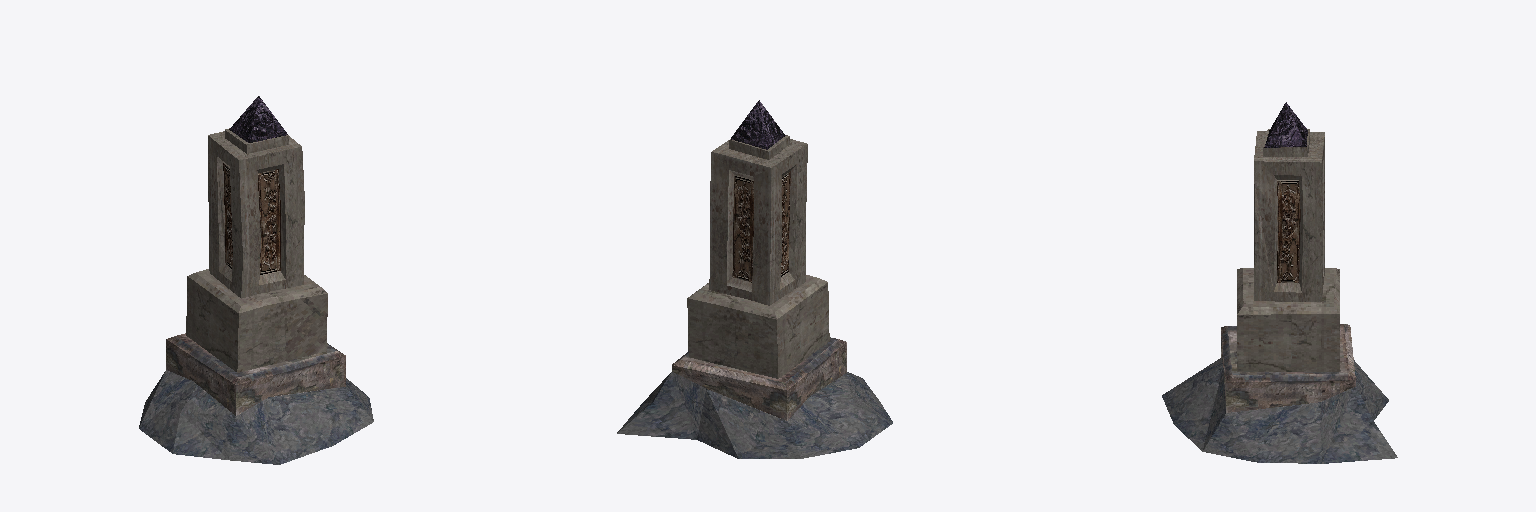
3 renders of one model, left to right at view 1: azimuth 30°, elevation 25°; view 2: azimuth 150°, elevation 25°; view 3: azimuth 270°, elevation 25°, orthographic.
Visible parts, largest first — view 1: Node 0, Node 4, Node 5, Node 1, Node 2, Node 3; view 2: Node 0, Node 4, Node 5, Node 1, Node 2, Node 3; view 3: Node 0, Node 4, Node 2, Node 1, Node 5, Node 3.
Boxes of the visible parts, <box> form: Node 0: <box>139,370,373,464</box>; Node 4: <box>186,269,327,372</box>; Node 5: <box>208,131,302,264</box>; Node 1: <box>166,333,345,415</box>; Node 2: <box>209,167,304,298</box>; Node 3: <box>225,96,288,153</box>; Node 0: <box>617,372,892,458</box>; Node 4: <box>687,275,829,378</box>; Node 5: <box>710,139,807,296</box>; Node 1: <box>672,337,846,420</box>; Node 2: <box>709,207,805,305</box>; Node 3: <box>729,100,790,159</box>; Node 0: <box>1162,358,1397,463</box>; Node 4: <box>1237,268,1339,371</box>; Node 2: <box>1254,182,1324,301</box>; Node 1: <box>1221,324,1355,412</box>; Node 5: <box>1254,131,1324,262</box>; Node 3: <box>1263,102,1309,156</box>.
Bounding box in the file's own units: 15.88 × 22.8 × 15.58.
10 materials, 5 textured.